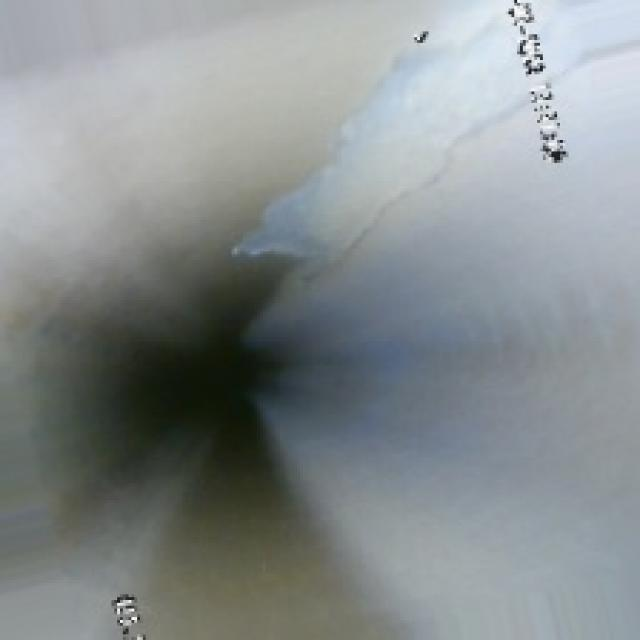pipe_surface_damage: (257, 43, 509, 231)
